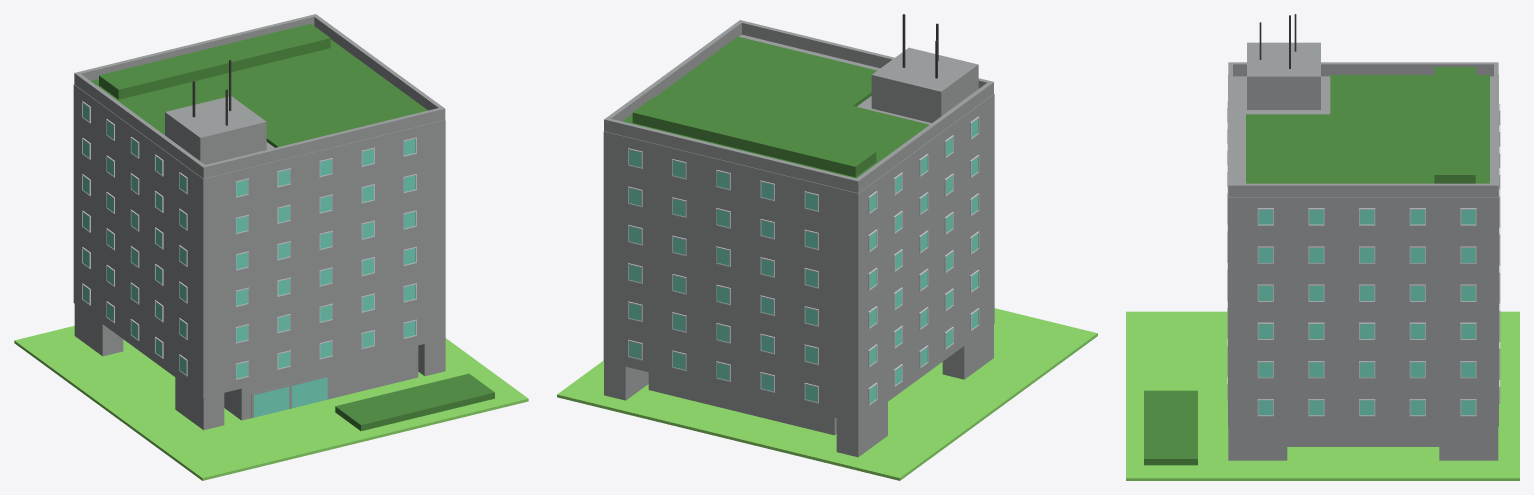
The model's file is building_6_etages.fbx.
3 views of the same model, side by side, from view 1: azimuth 30°, elevation 25°; view 2: azimuth 150°, elevation 25°; view 3: azimuth 270°, elevation 25° (orthographic). The views are drawn at different scales.
Visible parts, largest first — view 1: etages, jardin.004, jardin_toit, niveau_0, building_top, jardin_toit.001, maison_toit, jardin; view 2: etages, jardin.004, jardin_toit, building_top, niveau_0, jardin_toit.001, maison_toit; view 3: etages, jardin.004, jardin_toit, building_top, niveau_0, maison_toit, jardin_toit.001, jardin.
Boxes of the visible parts, left/top/right/bottom form: etages: left=73, top=84, right=445, bottom=397; jardin.004: left=14, top=326, right=528, bottom=480; jardin_toit: left=91, top=39, right=427, bottom=147; niveau_0: left=74, top=304, right=445, bottom=430; building_top: left=74, top=14, right=445, bottom=178; jardin_toit.001: left=99, top=23, right=330, bottom=99; maison_toit: left=165, top=96, right=266, bottom=164; jardin: left=335, top=373, right=494, bottom=431; etages: left=603, top=34, right=994, bottom=423; jardin.004: left=557, top=308, right=1097, bottom=480; jardin_toit: left=622, top=36, right=929, bottom=178; building_top: left=604, top=20, right=993, bottom=192; niveau_0: left=604, top=324, right=993, bottom=457; jardin_toit.001: left=632, top=97, right=876, bottom=177; maison_toit: left=871, top=47, right=978, bottom=122; etages: left=1227, top=74, right=1500, bottom=426; jardin.004: left=1126, top=311, right=1519, bottom=480; jardin_toit: left=1246, top=75, right=1489, bottom=183; building_top: left=1228, top=62, right=1498, bottom=197; niveau_0: left=1228, top=426, right=1498, bottom=460; maison_toit: left=1247, top=42, right=1320, bottom=109; jardin_toit.001: left=1434, top=67, right=1475, bottom=183; jardin: left=1144, top=390, right=1197, bottom=465.
Bounding box in the file's own units: 2600 × 2579 × 2600.
